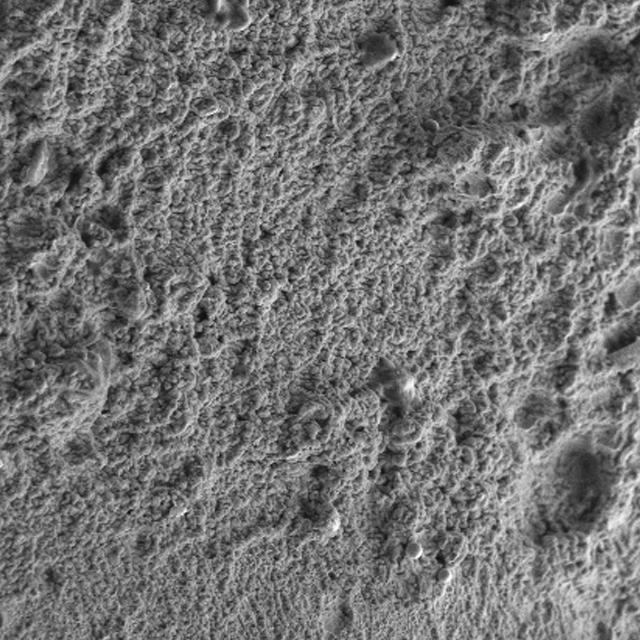c1: (0, 0, 640, 640)
